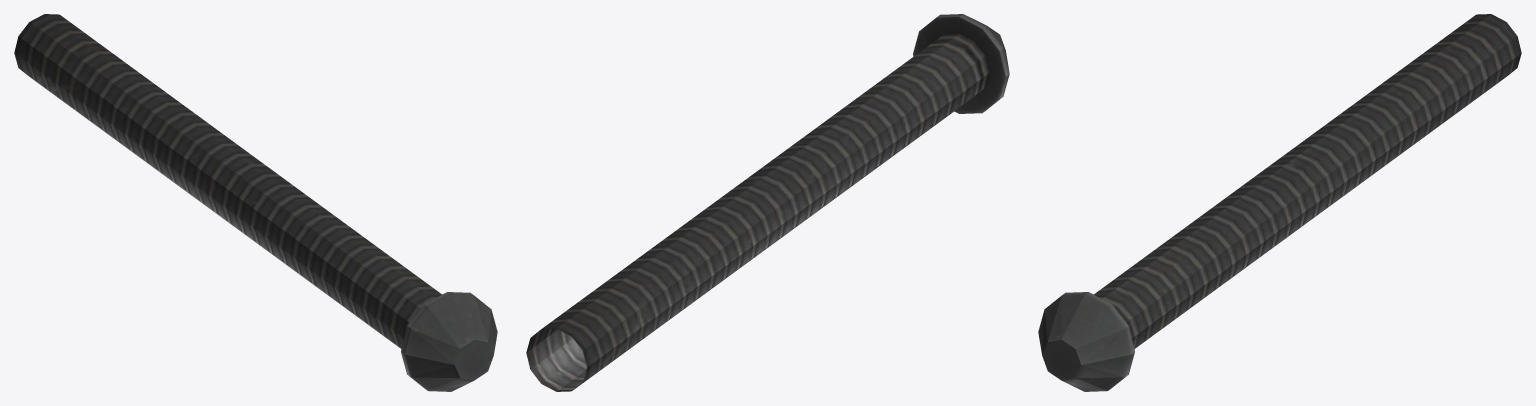
3 renders of one model, left to right at view 1: azimuth 30°, elevation 25°; view 2: azimuth 150°, elevation 25°; view 3: azimuth 330°, elevation 25°, orthographic.
Parts seen in each view (by area): view 1: TW_5fc3e272f8b6a877a729eac5_PZ_Import; view 2: TW_5fc3e272f8b6a877a729eac5_PZ_Import; view 3: TW_5fc3e272f8b6a877a729eac5_PZ_Import.
Boxes of the visible parts, x1,y1,x2,y2 form: TW_5fc3e272f8b6a877a729eac5_PZ_Import: (14, 14, 497, 391); TW_5fc3e272f8b6a877a729eac5_PZ_Import: (526, 14, 1009, 391); TW_5fc3e272f8b6a877a729eac5_PZ_Import: (1038, 14, 1521, 391).
Size of the model in its own units: 0.00905 by 0.0726 by 0.00905.
Materials: 1 (1 with a texture image).
